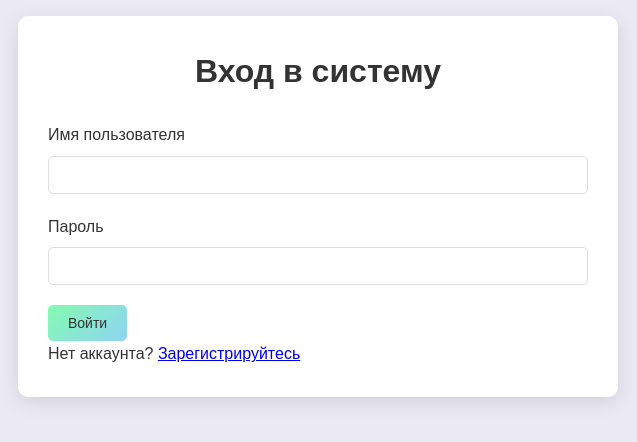
Scenario: LoginPage › показывает ошибку при неверных данных
This screenshot has width=637, height=442.
Type "wronguser" into the field with test id "username-input". click: point(318, 175)
box: [48,156,588,194]
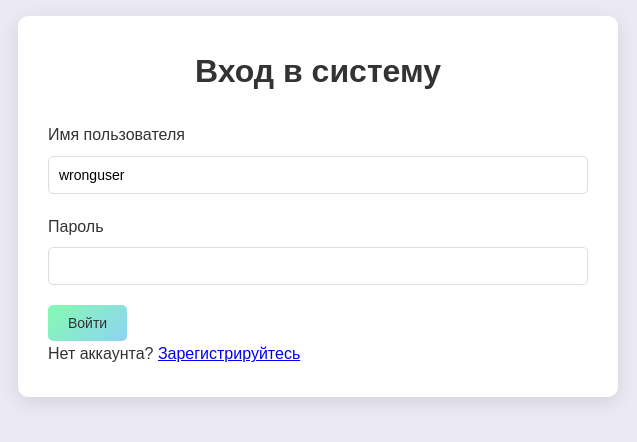
Type "wrongpass" into the password field with test id "password-input". click: point(318, 266)
box: [48,247,588,285]
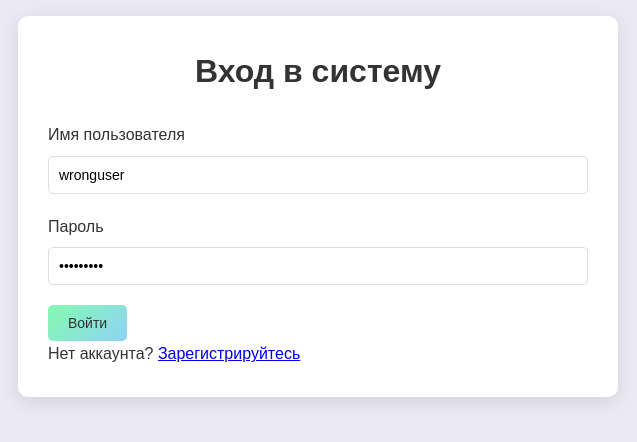
Click the button "Войти". click: point(88, 323)
box: [48,305,127,341]
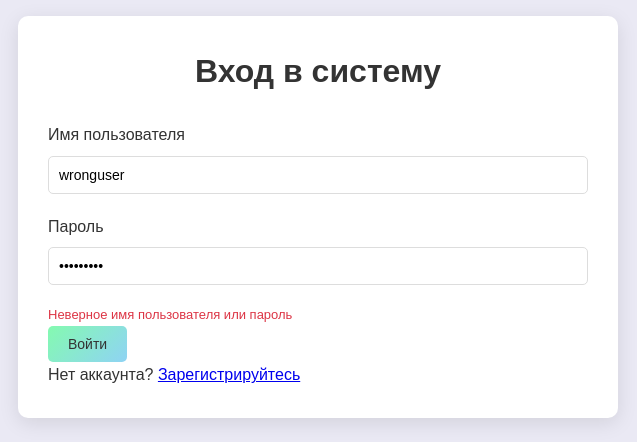
Now the text "Неверное имя пользователя или пароль" is shown, box [48,307,292,322]
